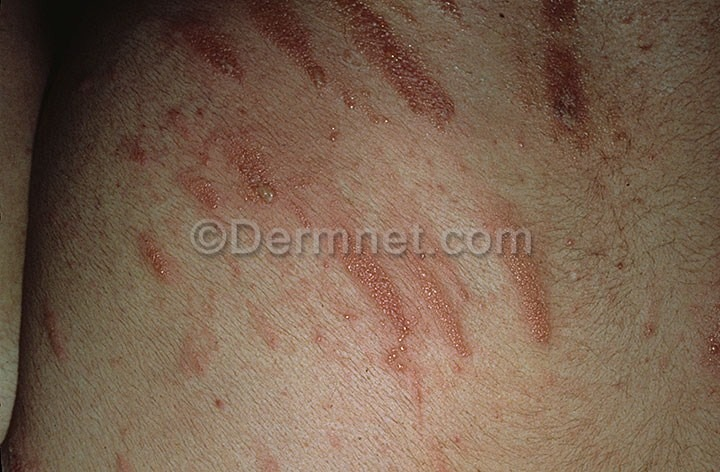Melasma: (116, 0, 678, 216), (215, 272, 599, 411)
